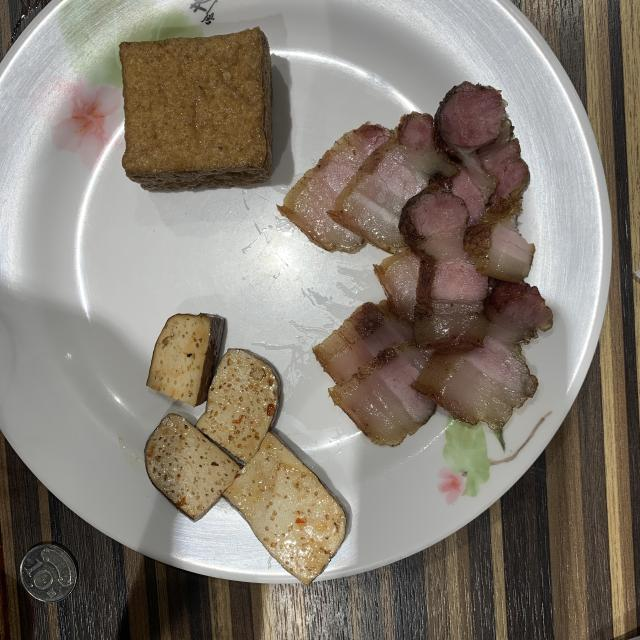coin: (20, 544, 76, 602)
egg tofu: (119, 28, 272, 190)
firm tofu: (145, 314, 346, 584)
grilled pork: (280, 81, 552, 445)
